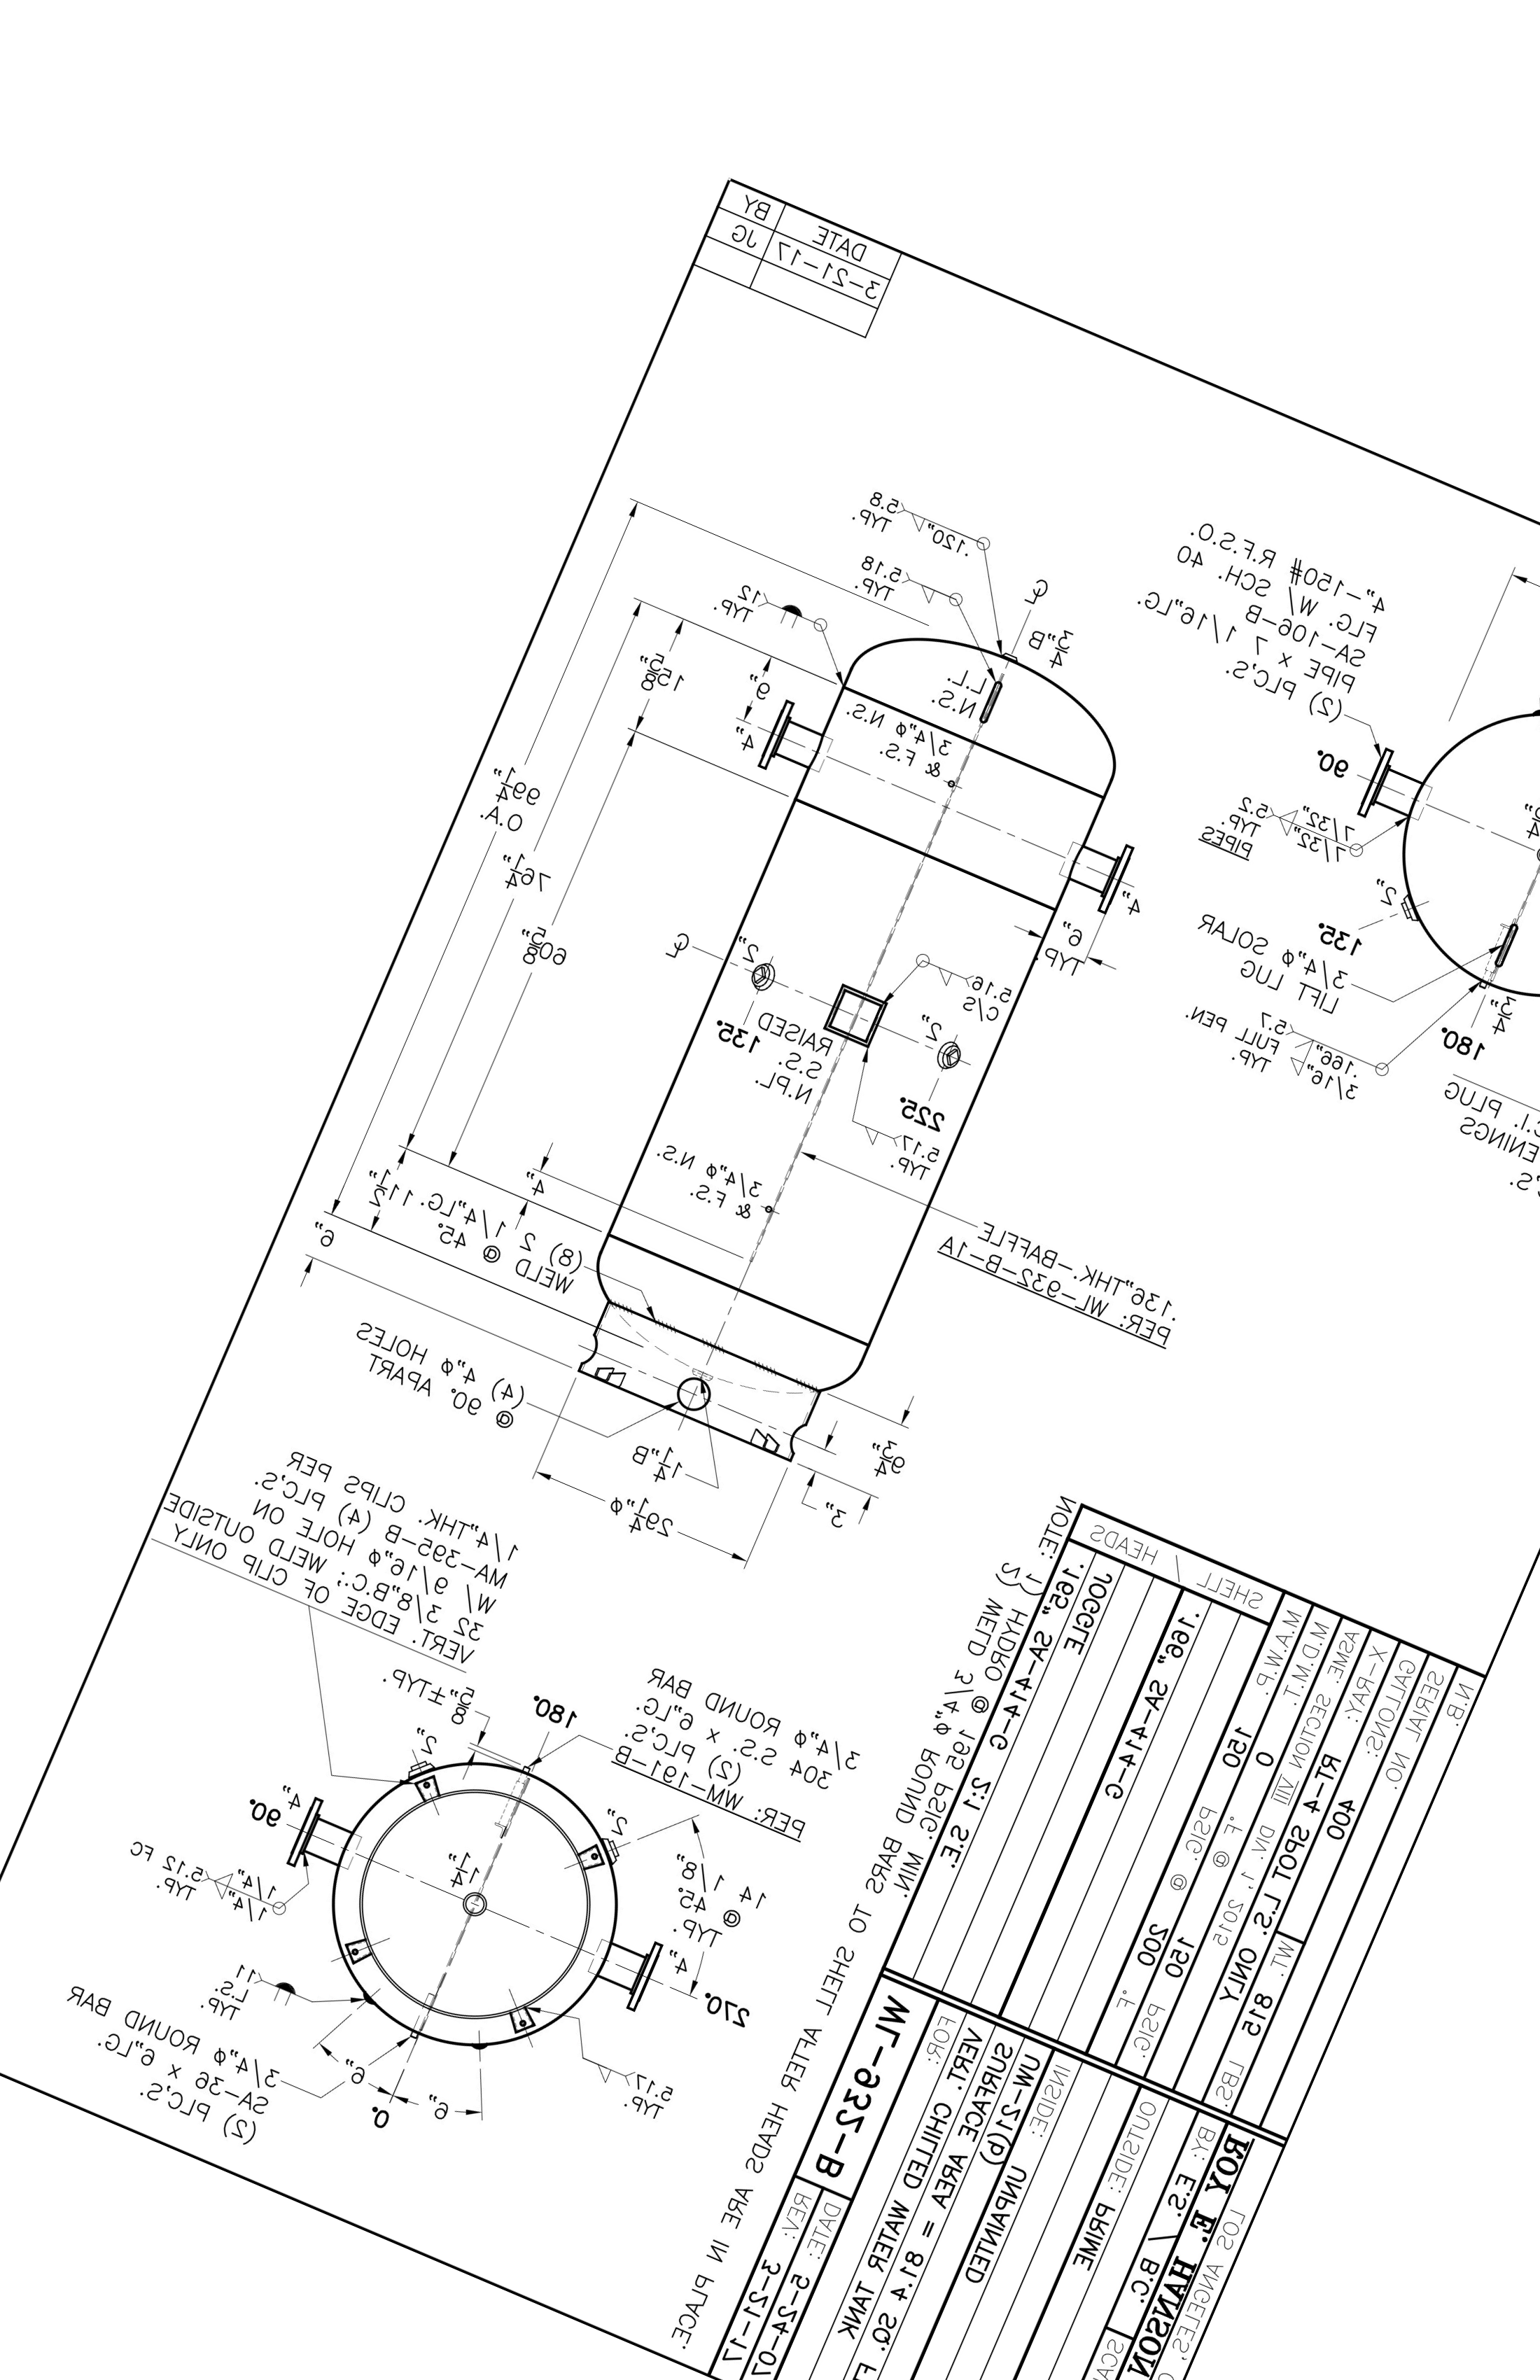Nozzle: (562, 1903, 690, 2035), (272, 1775, 385, 1912), (727, 704, 853, 821), (1315, 753, 1455, 857), (1058, 834, 1152, 942)
